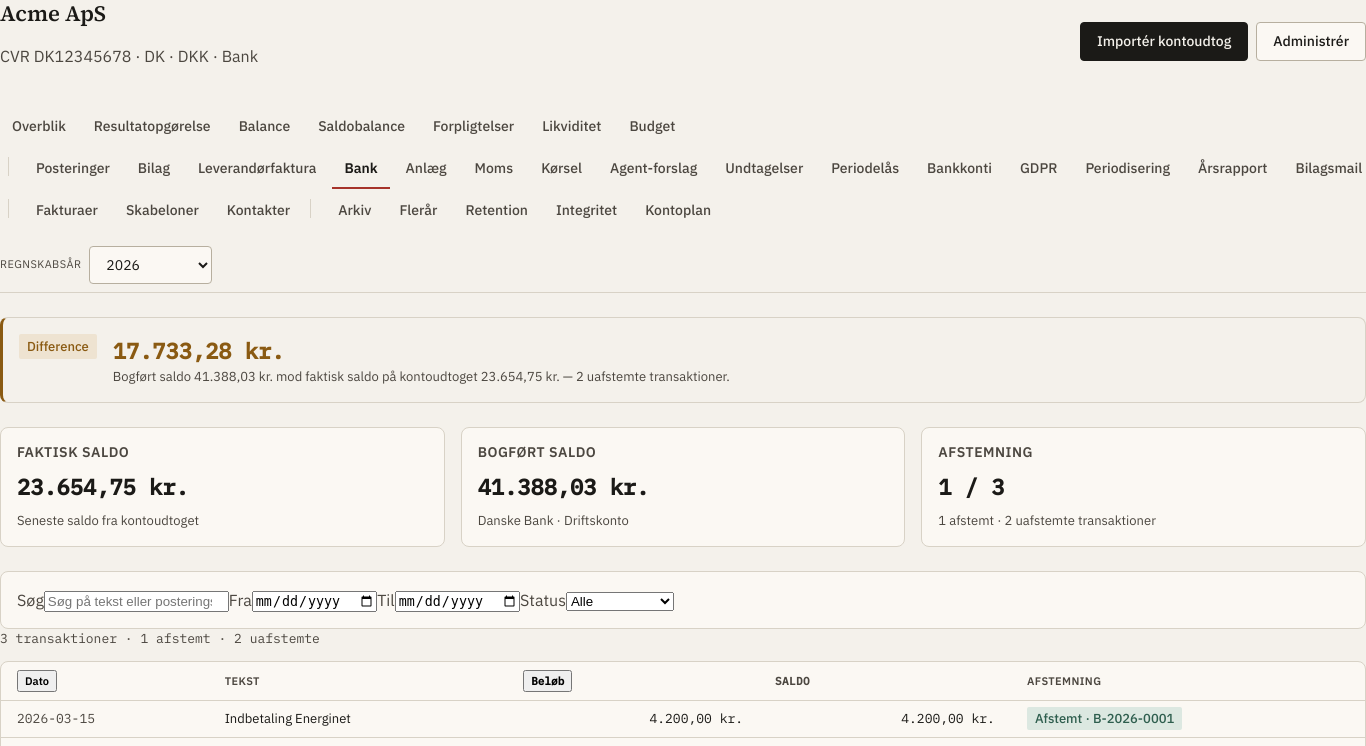
Test case: BankView — Bank › Ryd filtre-knappen er kun synlig når et filter er aktivt (#451)
Check: the text "Indbetaling Energinet" is shown, box [209, 701, 507, 737]
Check: the button "Ryd filtre" is not shown
In the search field labelled "Søg": (136, 602) [44, 591, 229, 612], type "energinet"
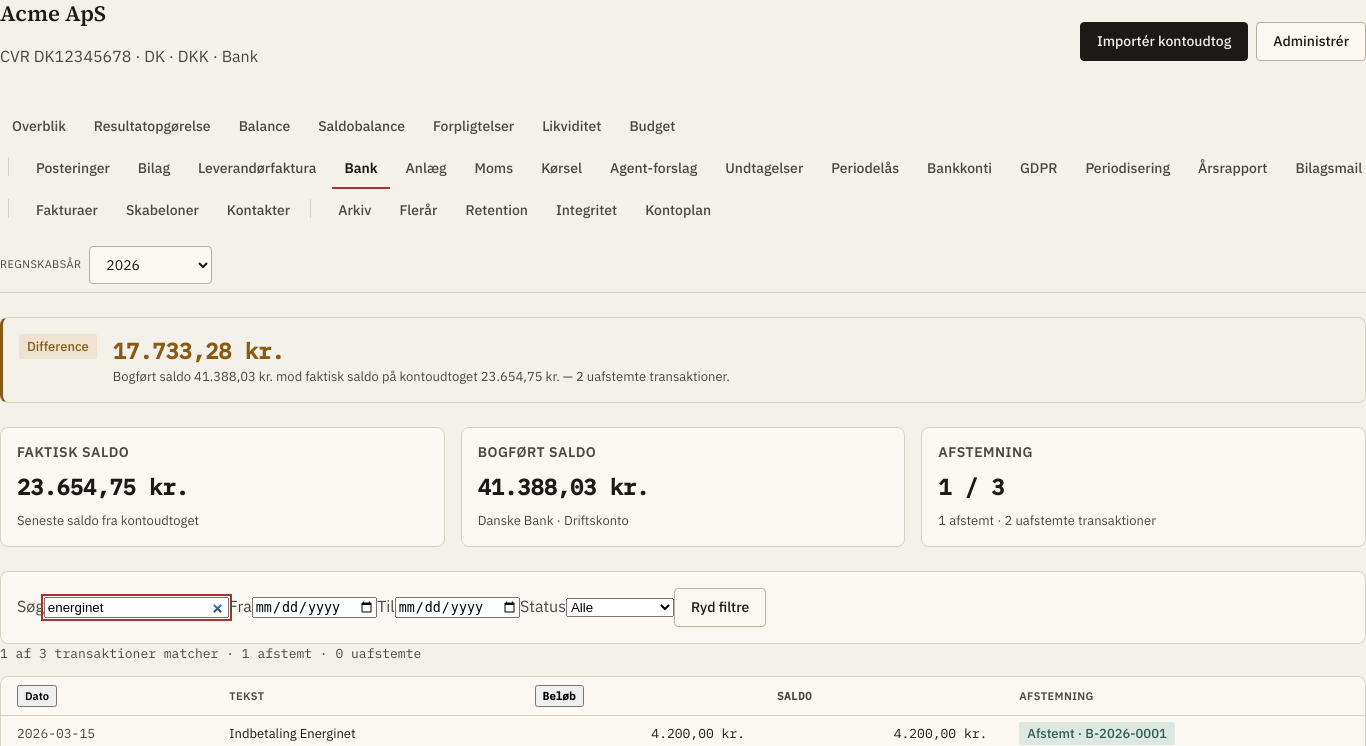
Check: the button "Ryd filtre" is shown, box [674, 588, 766, 627]
